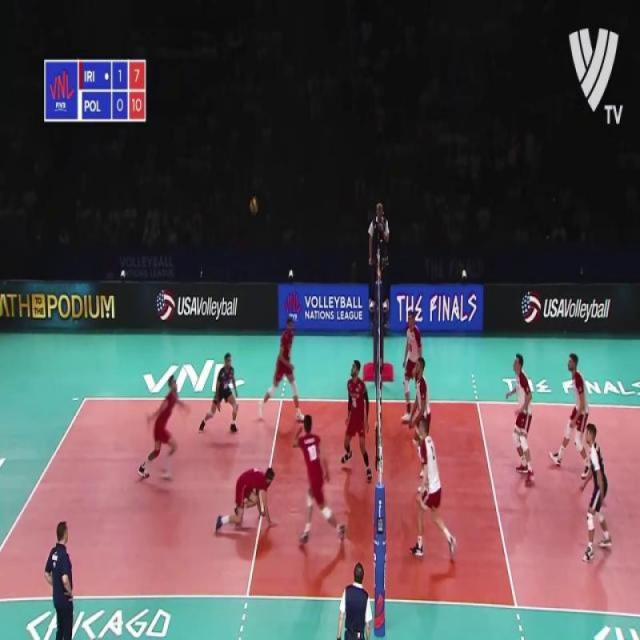volleyball: (251, 198, 259, 213)
